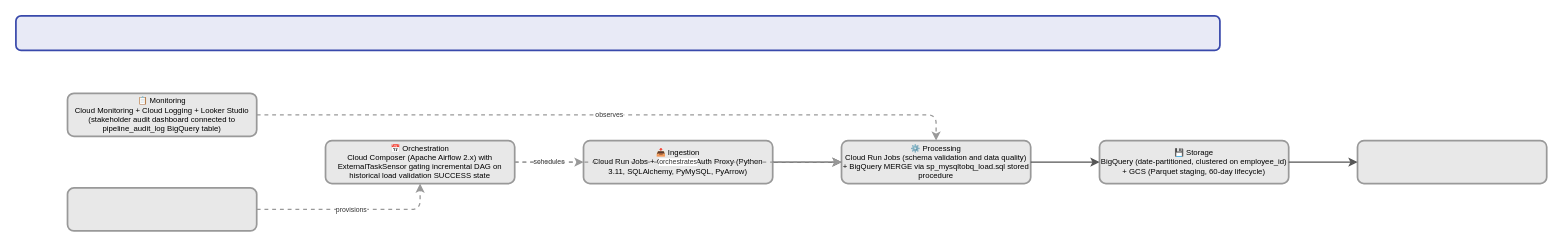
Some shapes in this 1562 by 246 pixel diagram are drawn without their labels. The shapes that lost their labels are listed below. From the top down, each one's centre as x and y in pixels, then its label:
At (617,33): "Data Pipeline Architecture".
At (1451,161): "📊 Consumption Consumption".
At (161,209): "🔨 IaC Terraform (hashicorp/google provider)".
